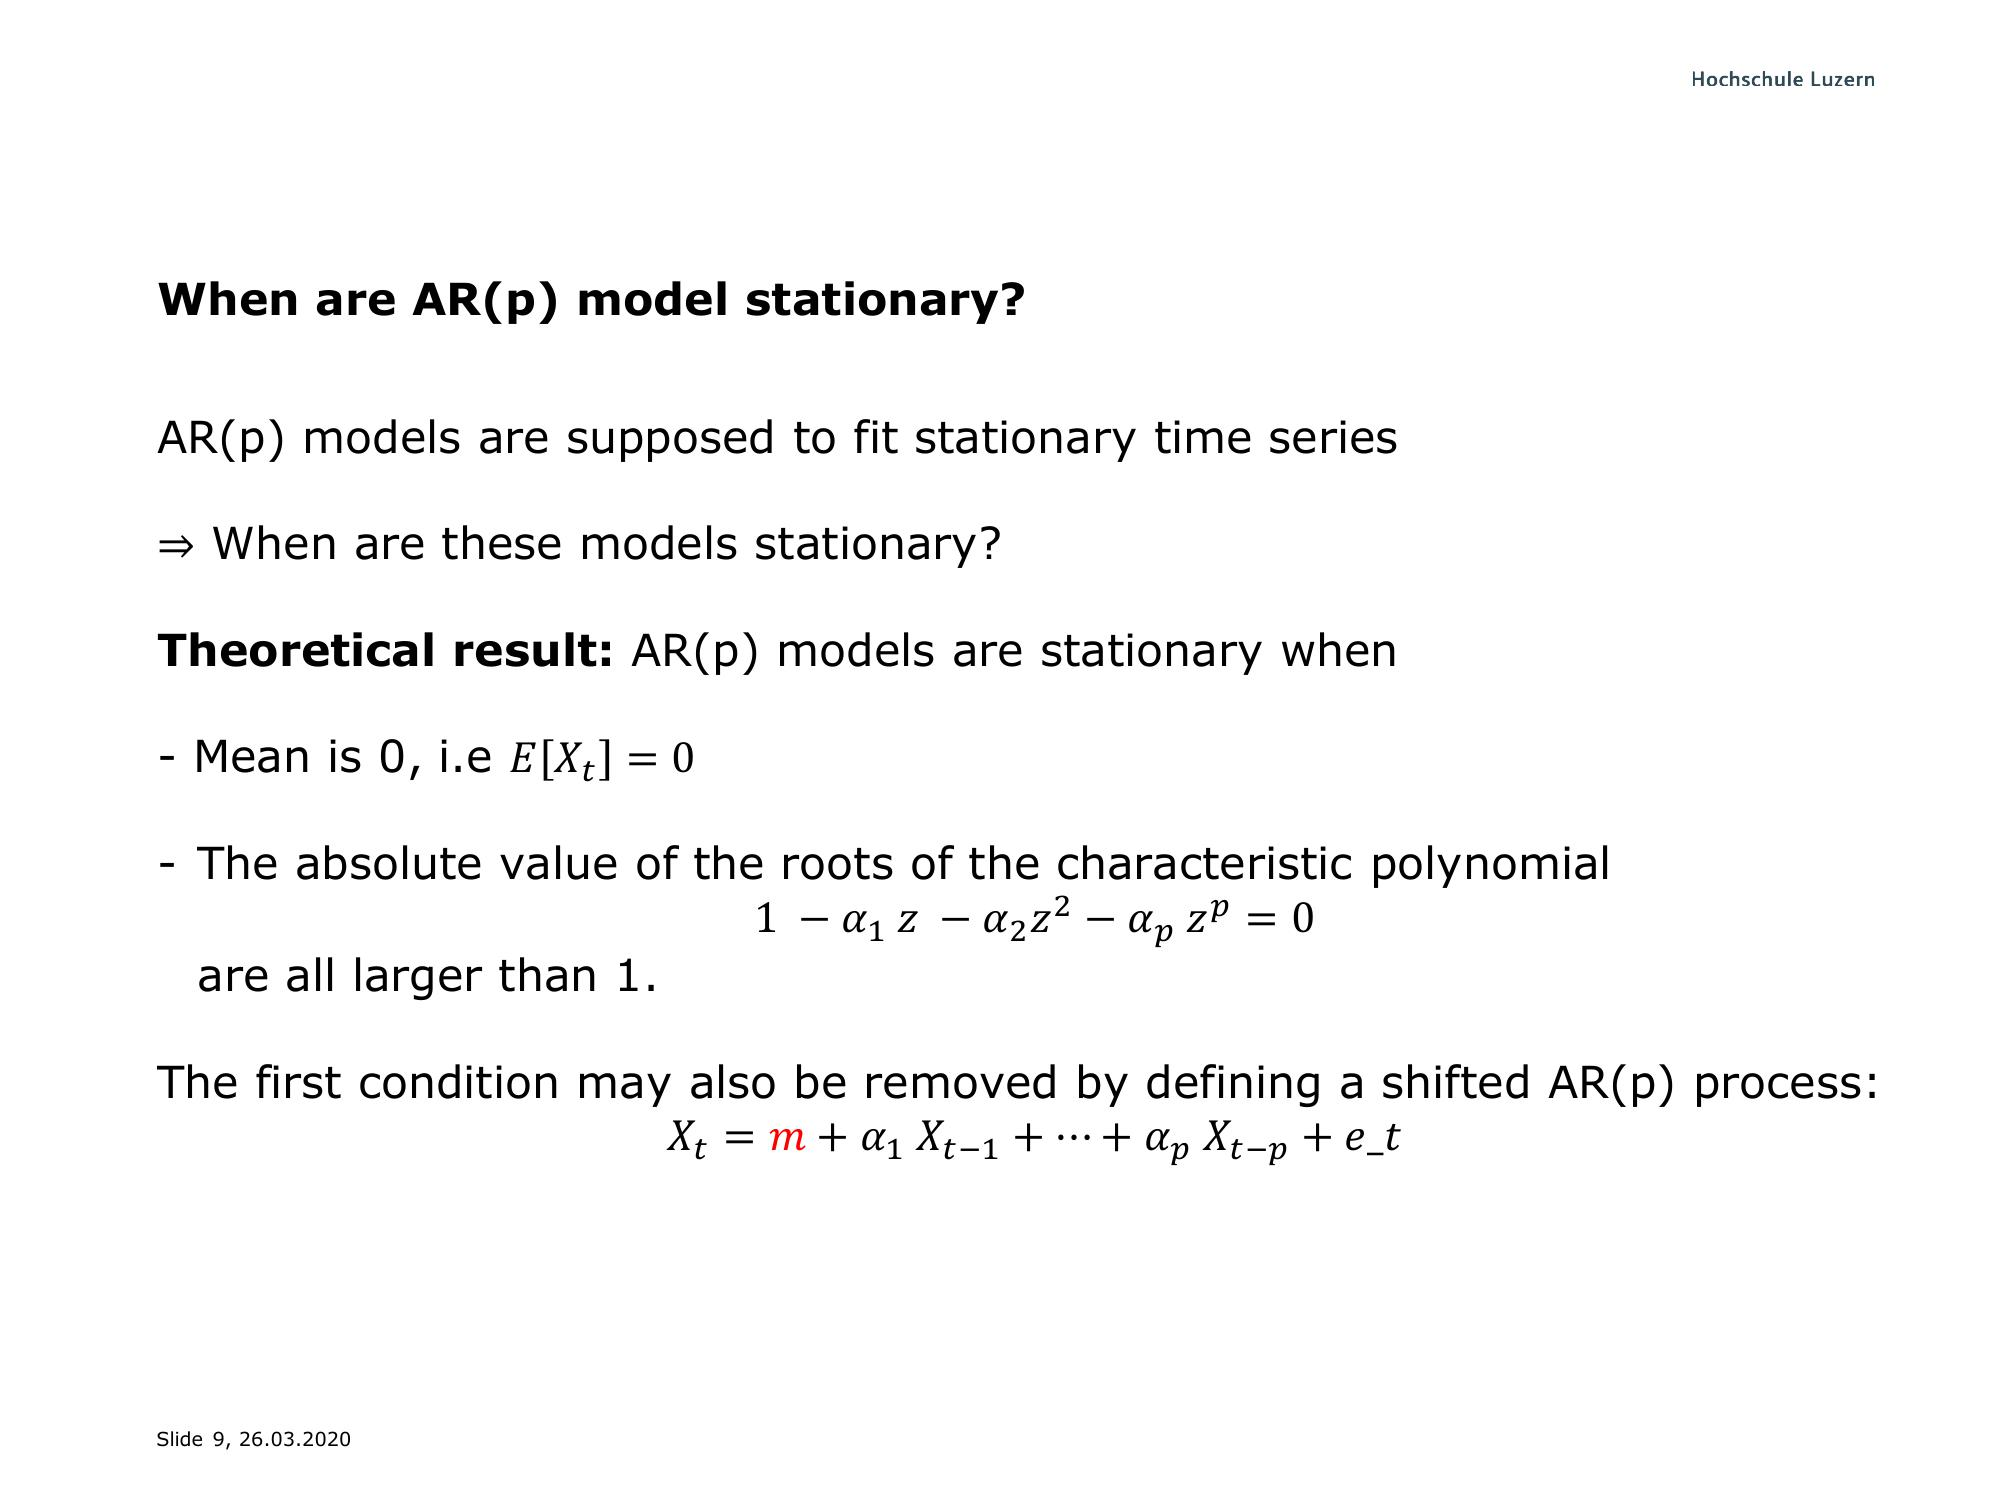Title: (135, 266, 1039, 336)
